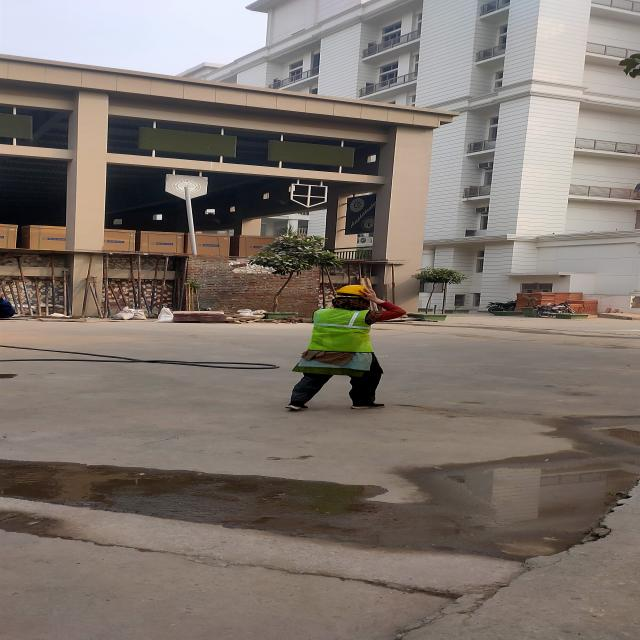safe: (293, 284, 395, 414)
